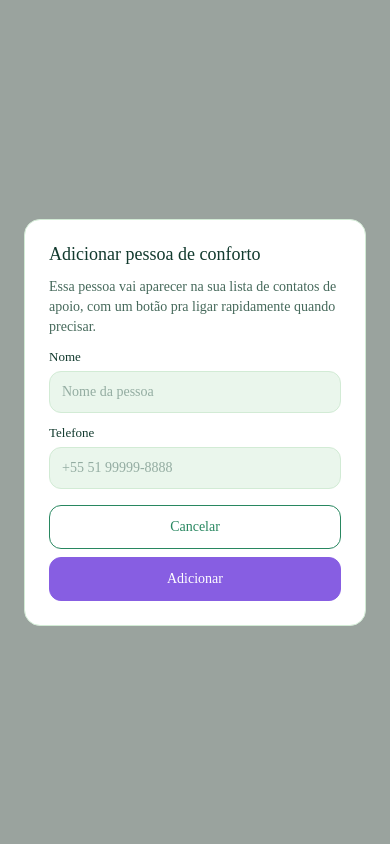
it: AddContactModal › aplica a máscara e envia nome aparado e telefone só com dígitos
This screenshot has width=390, height=844.
Later steps or results of the test are not shown.
In the field with placeholder "Nome da pessoa": point(195, 392) [49, 370, 341, 412], type "  Ana  "
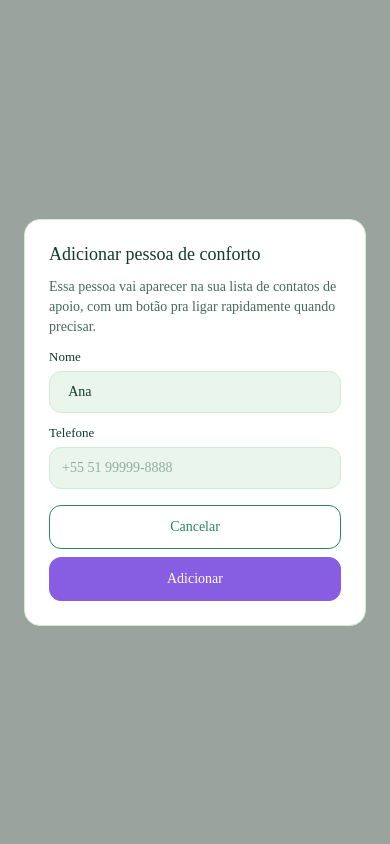
In the field with placeholder "+55 51 99999-8888": point(195, 468) [49, 446, 341, 488], type "51999998888"
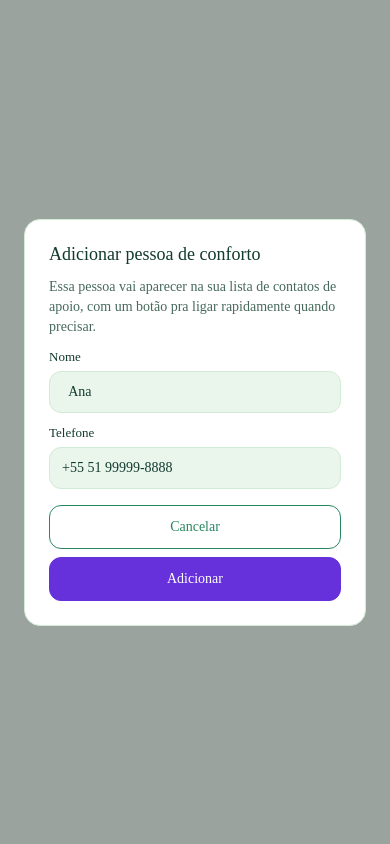
Expected: the field with placeholder "+55 51 99999-8888" below "Telefone" holds "+55 51 99999-8888", [49, 446, 341, 488]
